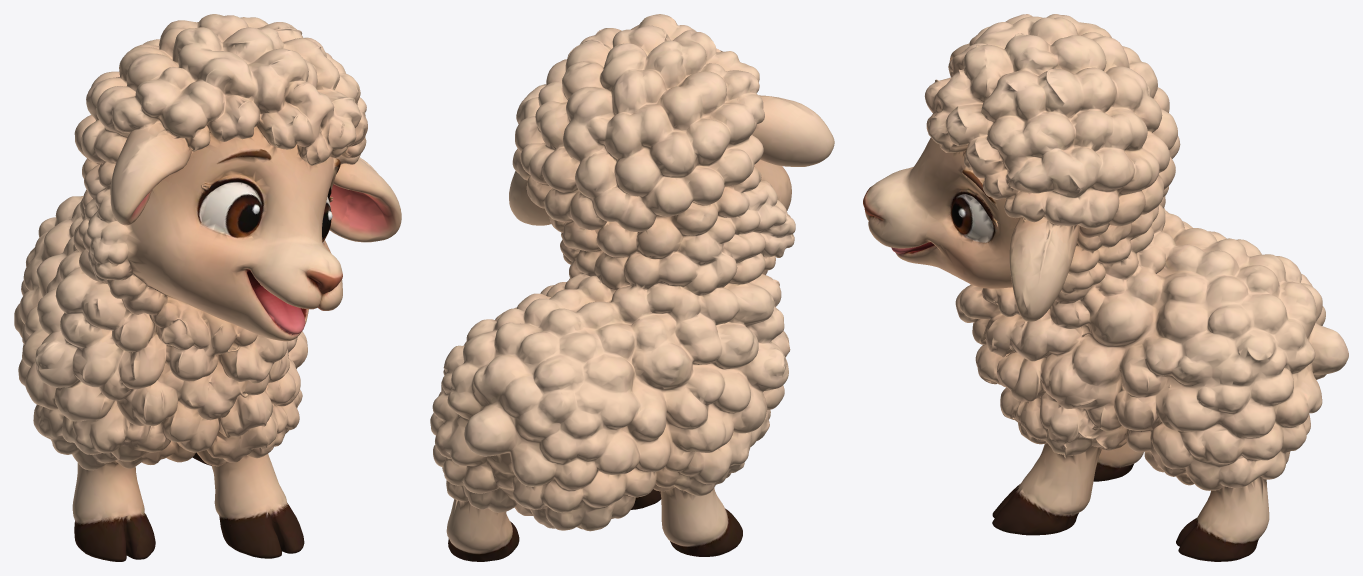
File: sheep.glb
The picture shows the model from 3 angles, left to right: view 1: azimuth 30°, elevation 25°; view 2: azimuth 150°, elevation 25°; view 3: azimuth 270°, elevation 25°; orthographic projection. The views are drawn at different scales.
Visible parts, largest first — view 1: tripo_node_6f5e50c8-548d-41c3-8093-97c9bd555eb3; view 2: tripo_node_6f5e50c8-548d-41c3-8093-97c9bd555eb3; view 3: tripo_node_6f5e50c8-548d-41c3-8093-97c9bd555eb3.
Part boxes in pixels (x1=…): tripo_node_6f5e50c8-548d-41c3-8093-97c9bd555eb3: x1=14, y1=14, x2=401, y2=561; tripo_node_6f5e50c8-548d-41c3-8093-97c9bd555eb3: x1=430, y1=14, x2=834, y2=561; tripo_node_6f5e50c8-548d-41c3-8093-97c9bd555eb3: x1=863, y1=14, x2=1348, y2=561.
Bounding box in the file's own units: 0.6712 × 0.9996 × 0.9186.
1 material, 1 textured.
